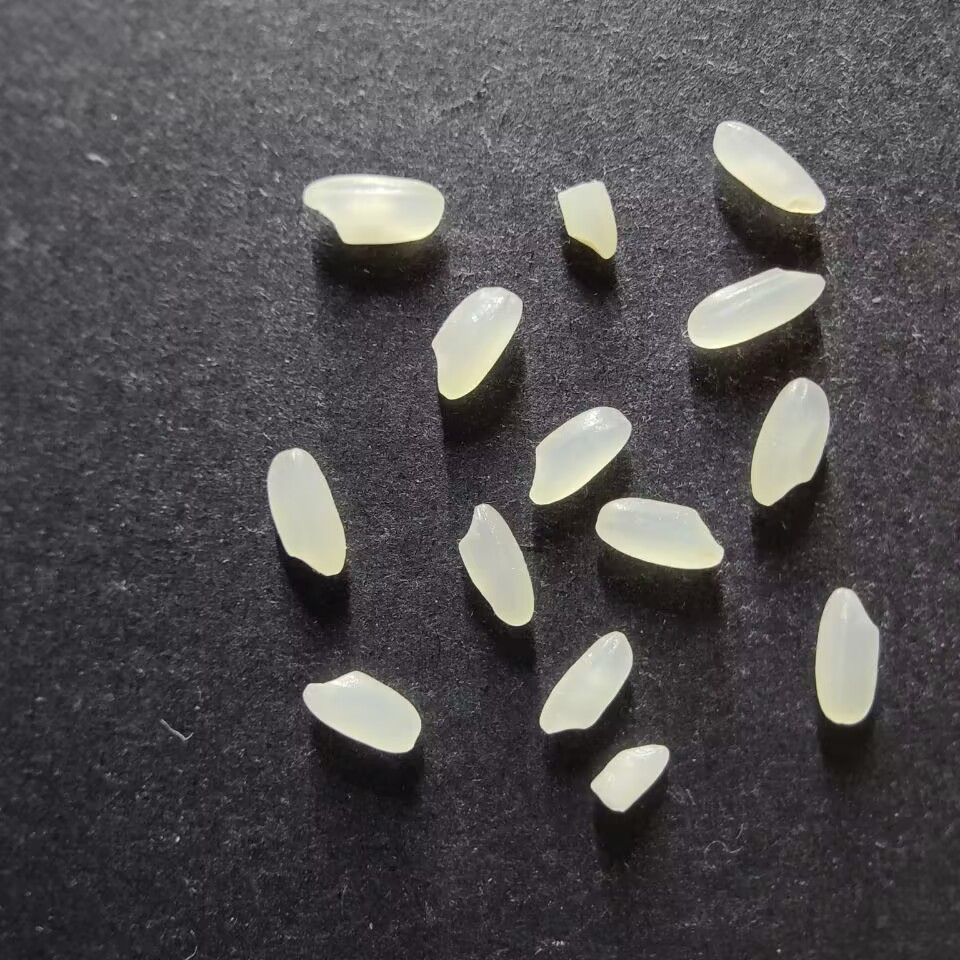broken: (589, 743, 669, 812), (555, 179, 618, 260)
rice: (686, 265, 825, 349), (711, 120, 827, 214), (430, 286, 522, 401), (749, 377, 831, 506), (528, 405, 632, 506), (266, 448, 346, 577), (302, 173, 444, 245), (301, 670, 421, 755), (538, 630, 633, 735), (456, 502, 534, 627), (594, 497, 726, 569), (814, 587, 880, 724)
